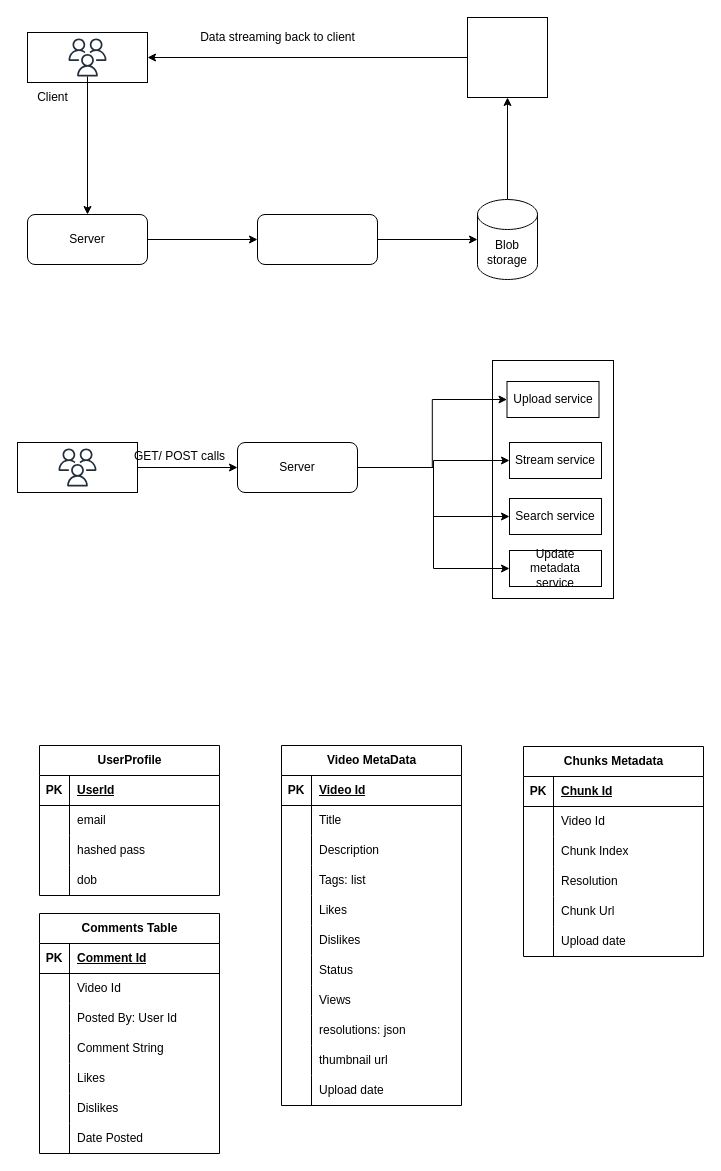
Image size: 721x1171. Some labels were removed from this diagram. Each missing label, with the centre of its shape:
"CDN cloud" goes at (x=507, y=57).
"Encoder" goes at (x=317, y=239).
